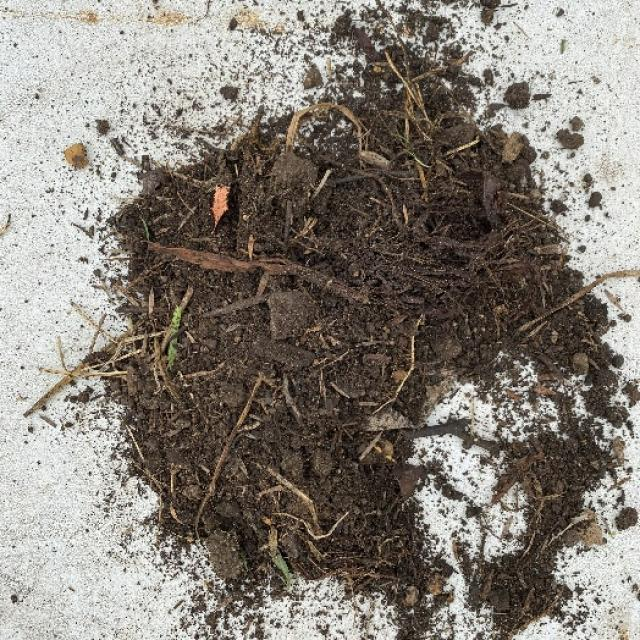organik: (111, 80, 527, 592)
